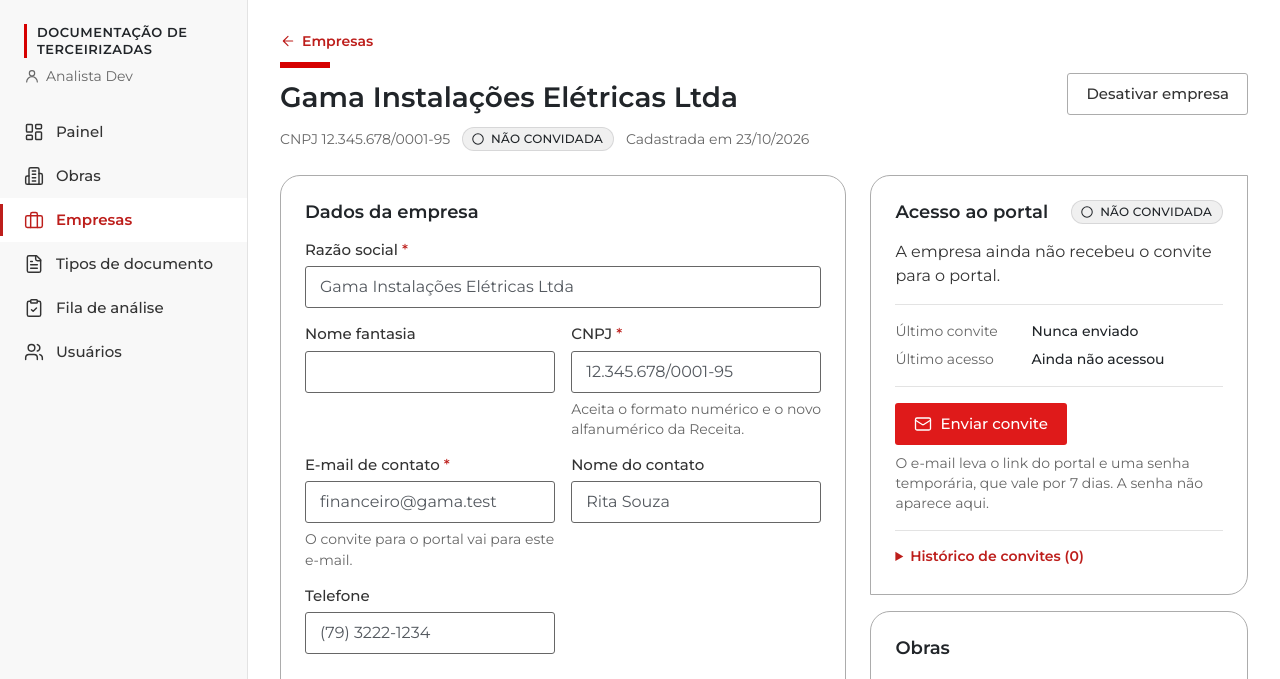
Test: Detalhe da empresa — convite › EMAIL_FALHOU mostra a mensagem do contrato e mantém a situação
This screenshot has width=1280, height=679.
expect the heading "Gama Instalações Elétricas Ltda" is shown: met, box [280,80,738,114]
What coordinates should you click on to do the following:
click the button "Enviar convite"
I would click on:
 (981, 424)
Its box is [895,403,1067,445].
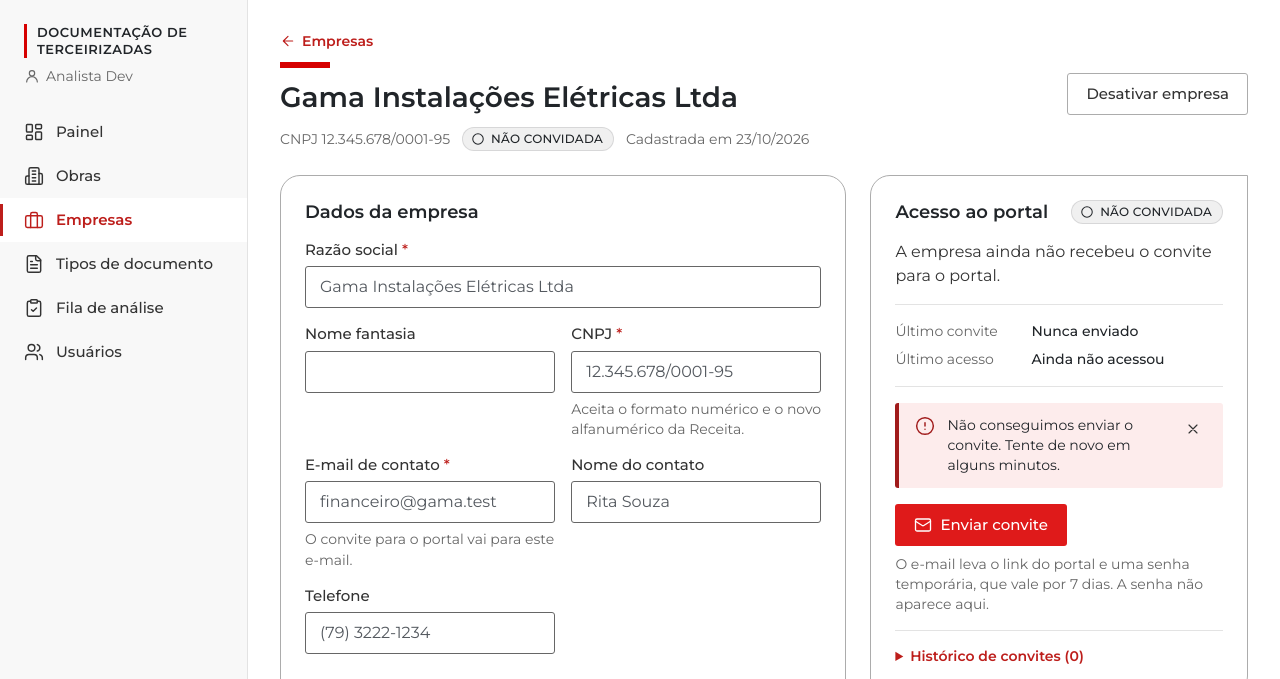
expect the text "Não convidada" next to "Acesso ao portal" is shown: met, box [1100,204,1212,219]
expect the text "Não conseguimos enviar o convite. Tente de novo em alguns minutos." is shown: met, box [947,416,1133,474]
